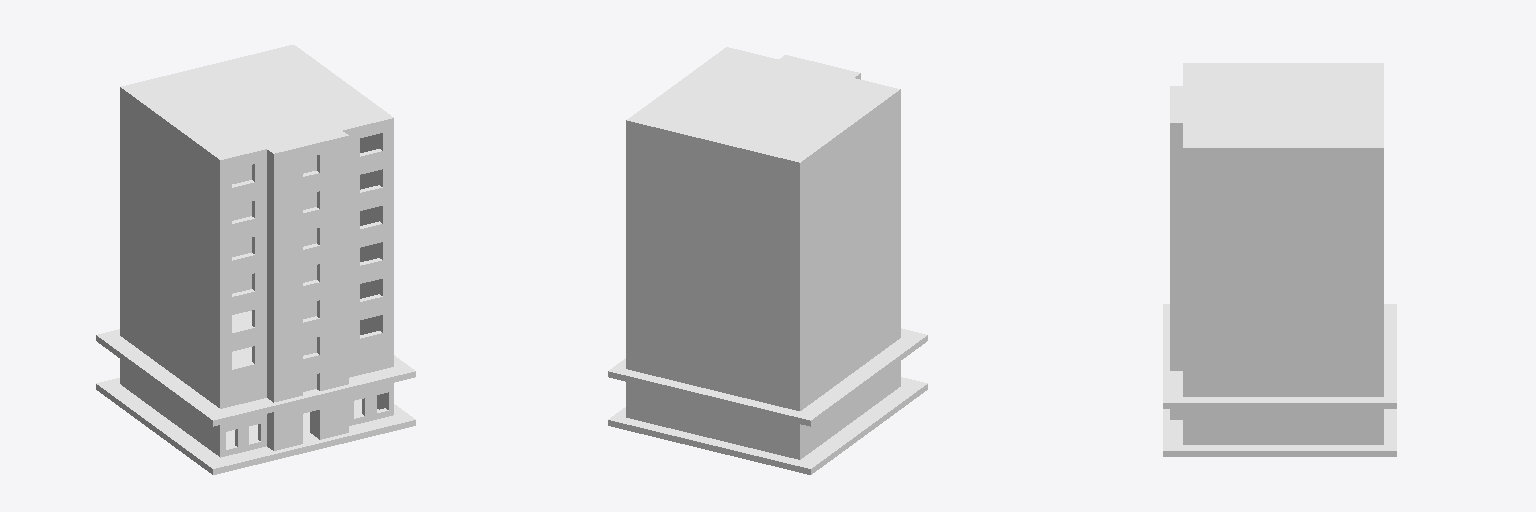
File: bill_B.obj
3 views of the same model, side by side, from view 1: azimuth 30°, elevation 25°; view 2: azimuth 150°, elevation 25°; view 3: azimuth 270°, elevation 25° (orthographic).
Size of the model in its own units: 35 by 50 by 35.